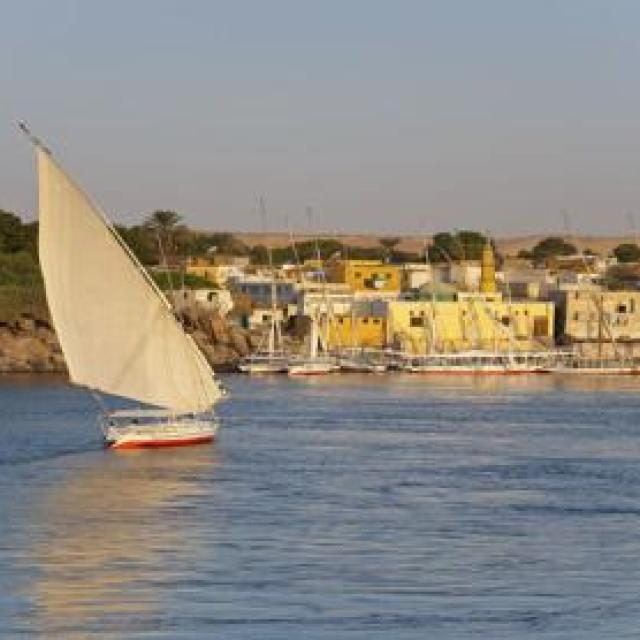sailboat: (12, 116, 230, 457)
